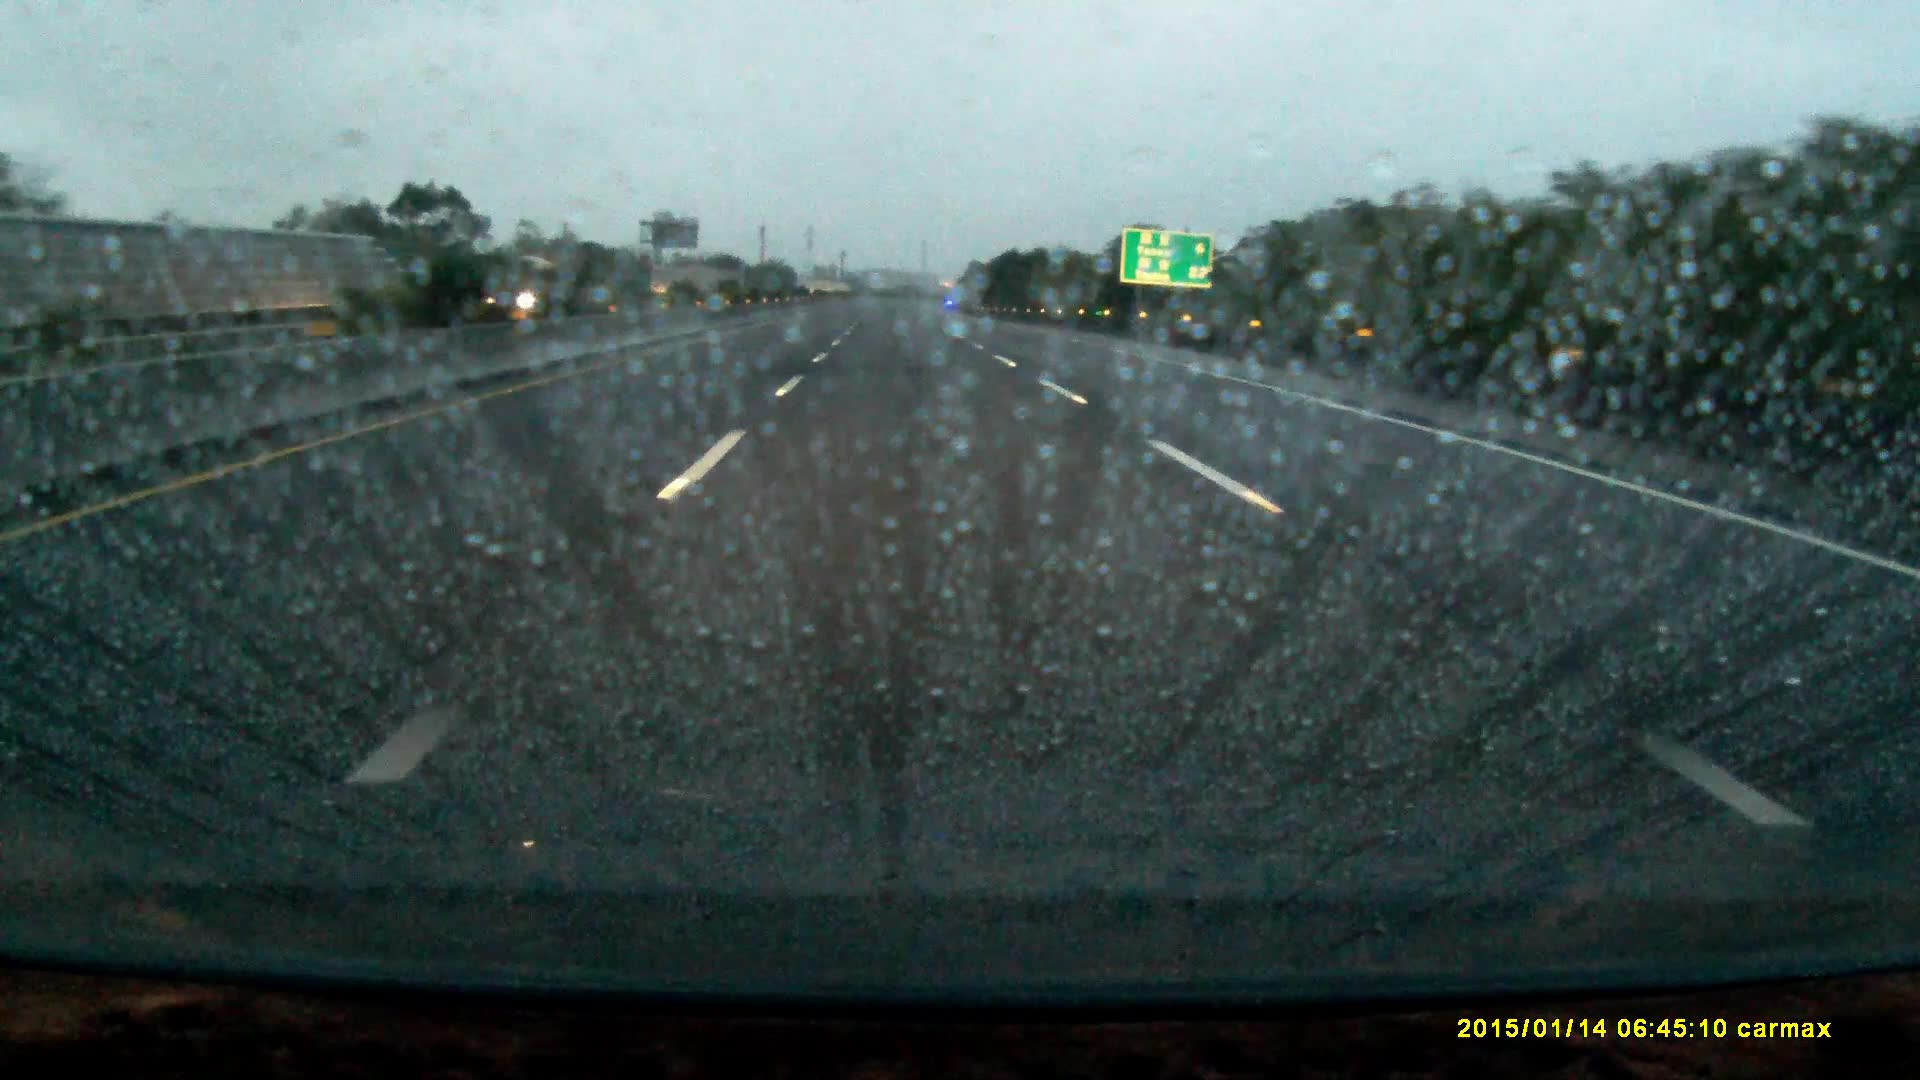vehicle: (485, 258, 582, 311)
